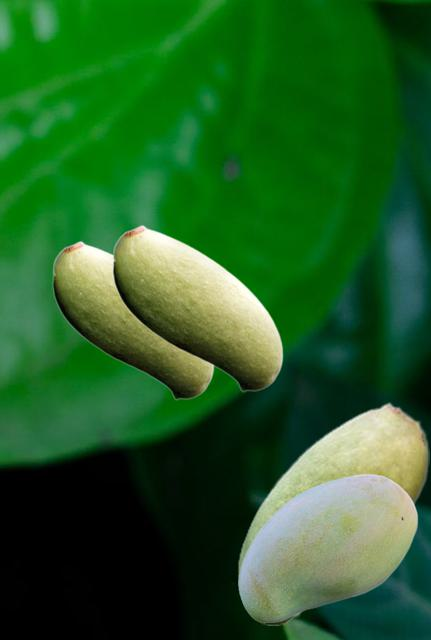green_mango: (237, 402, 428, 624), (112, 224, 282, 391), (238, 474, 417, 621), (52, 240, 213, 399)
